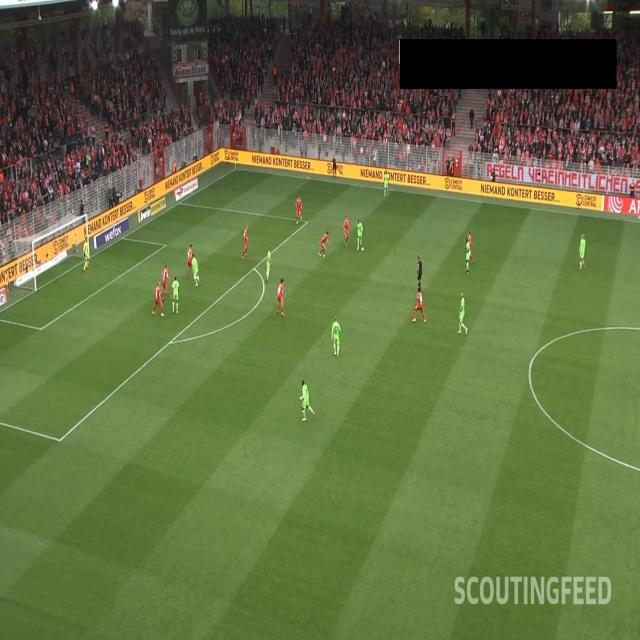ball: (360, 246, 364, 252)
